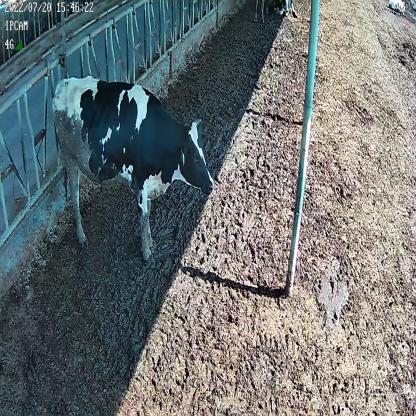cow: (53, 76, 214, 264)
